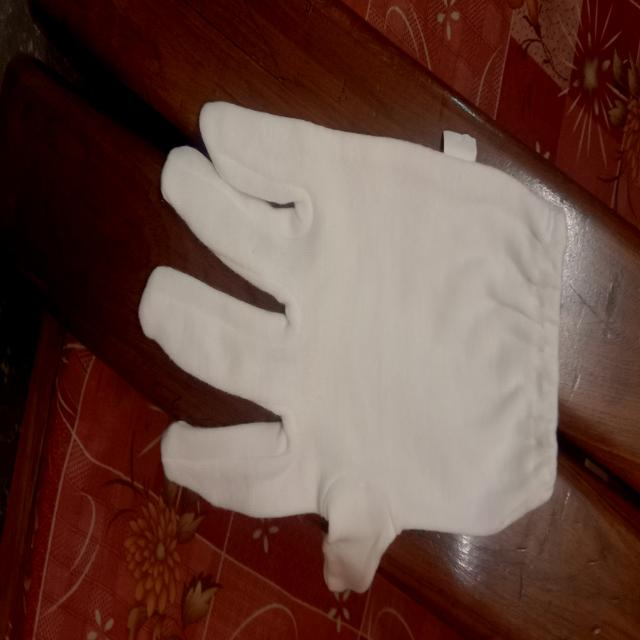glove: (135, 91, 570, 608)
